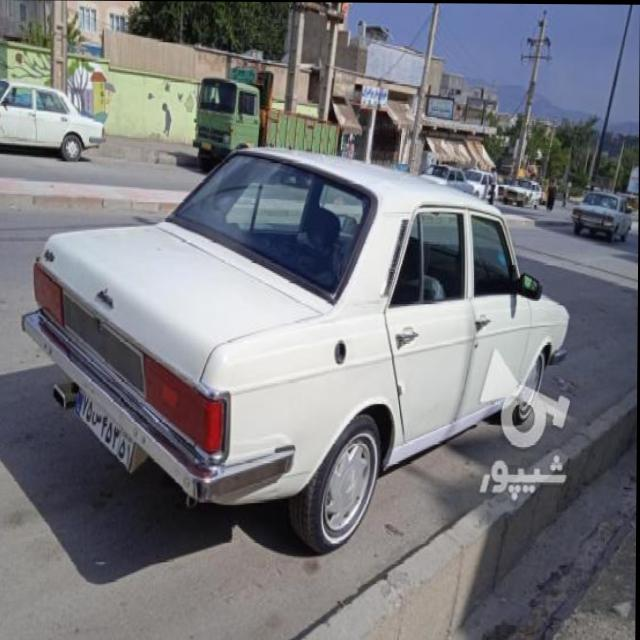licence: (77, 385, 134, 470)
